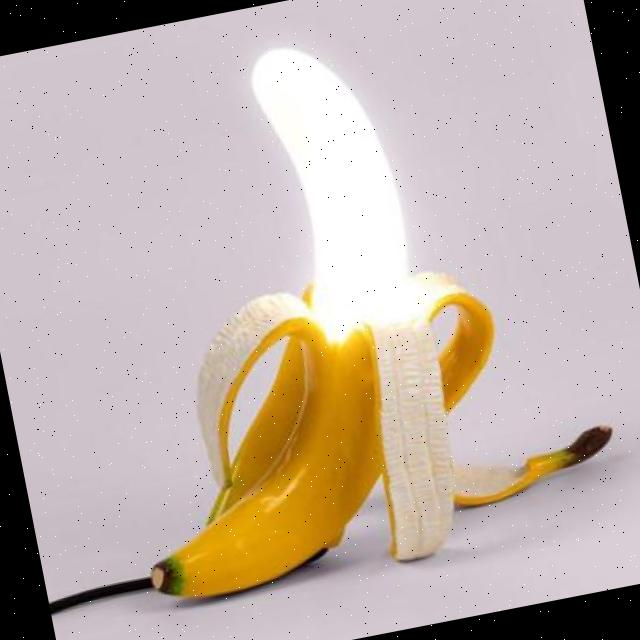banana-peel: (54, 0, 629, 611)
